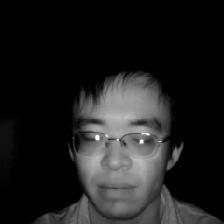normal: (50, 56, 187, 220)
